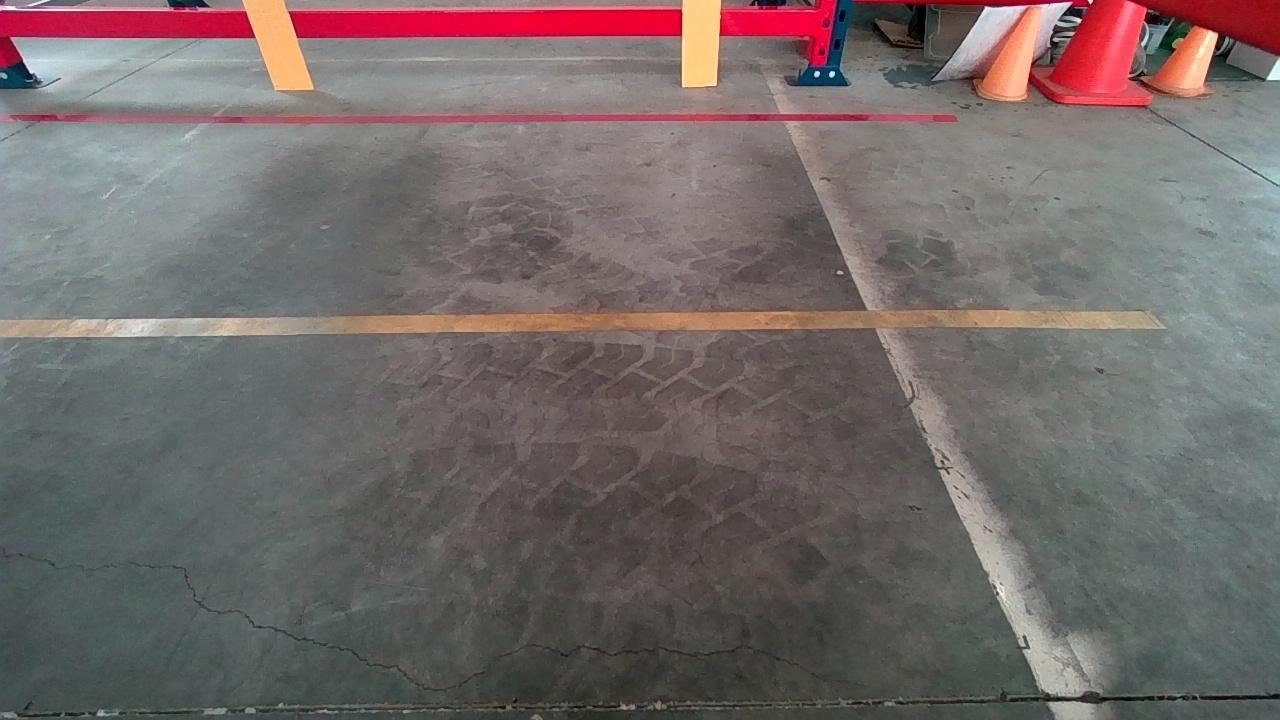h_rack: (0, 12, 816, 38)
orange_strip: (244, 0, 314, 87), (681, 0, 720, 83)
red_line: (0, 115, 960, 124)
yellow_line: (0, 312, 1168, 337)
